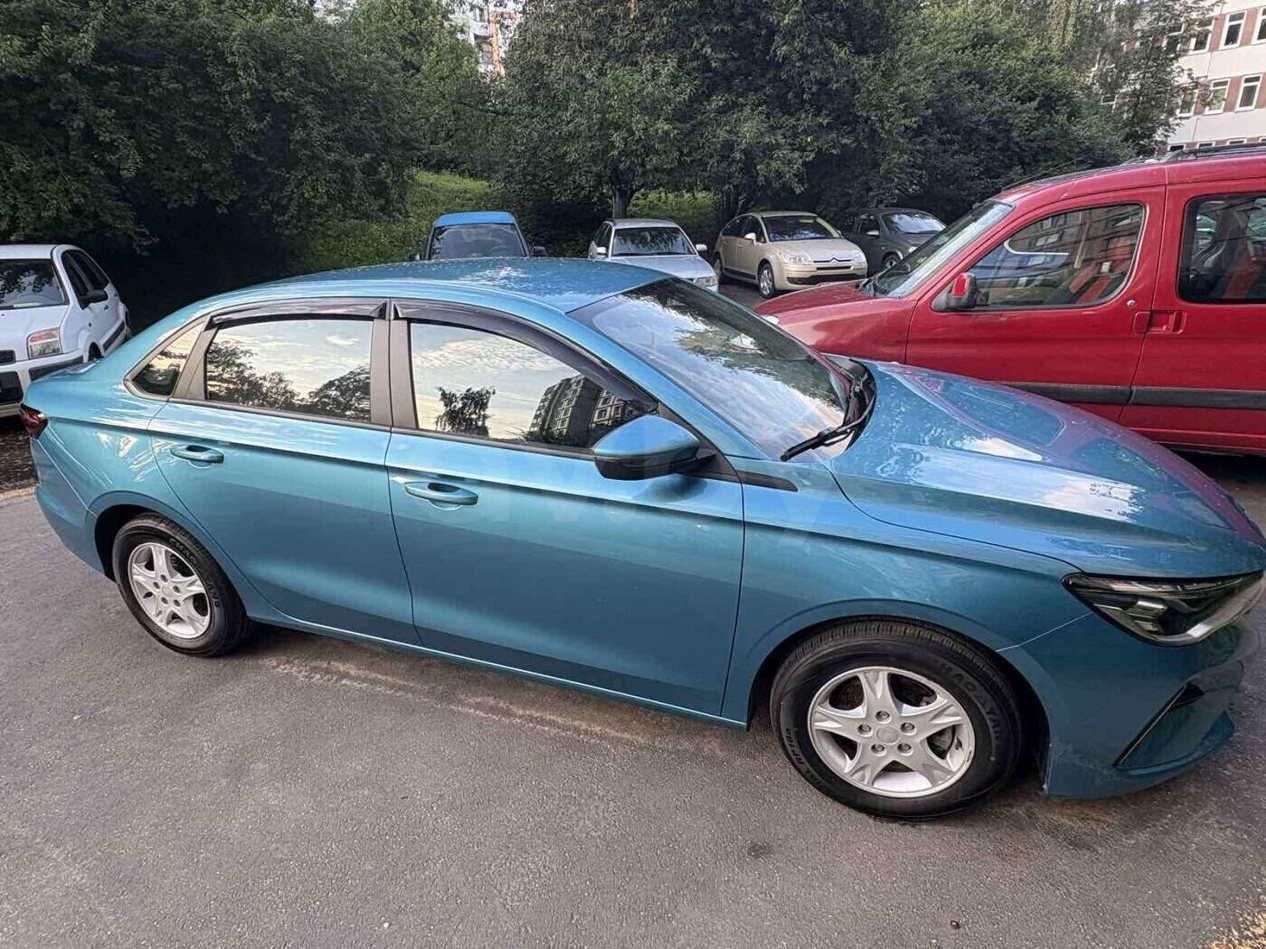Emgrand_2021: (22, 254, 1266, 828)
